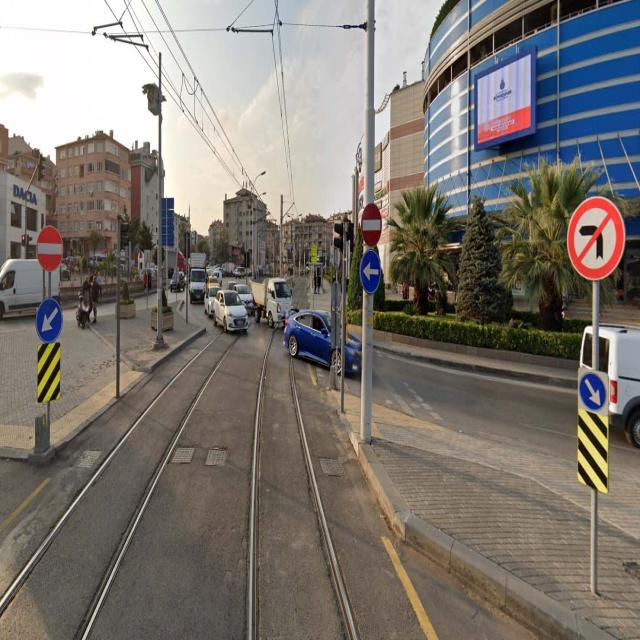girisyok: (36, 227, 64, 272), (361, 203, 381, 248)
sol: (360, 250, 381, 295)
soladonulmez: (567, 197, 626, 281)
